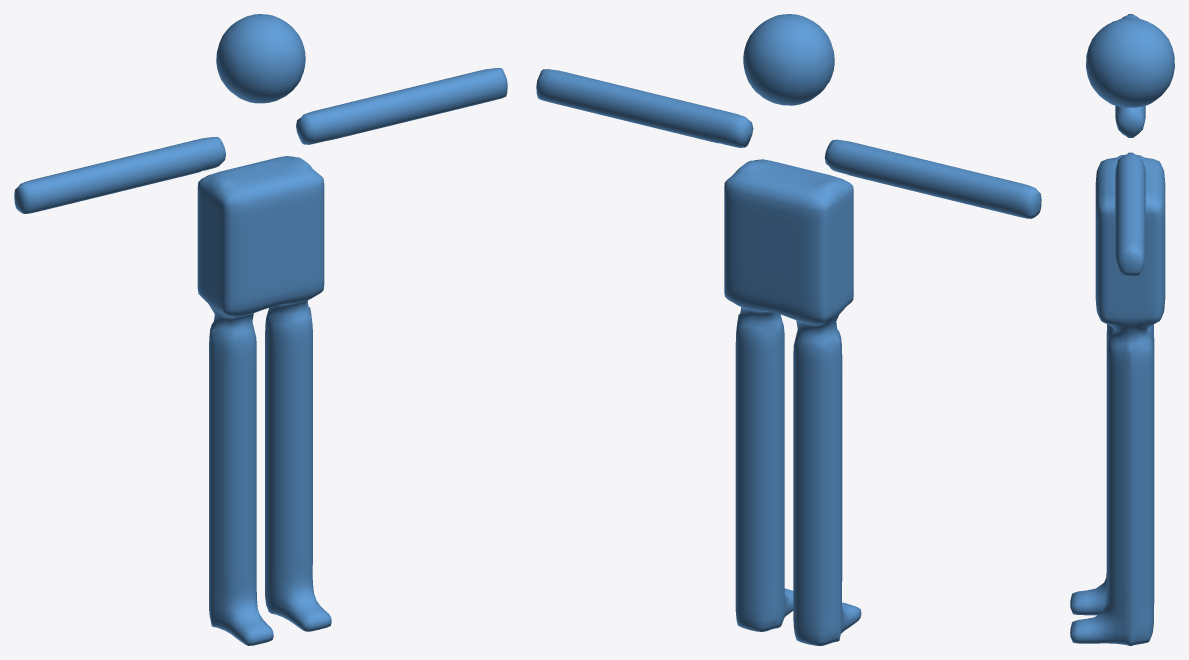
The model's file is kid_mesh.glb.
3 views of the same model, side by side, from view 1: azimuth 30°, elevation 25°; view 2: azimuth 150°, elevation 25°; view 3: azimuth 270°, elevation 25° (orthographic). The views are drawn at different scales.
Visible parts, largest first — view 1: demo_humanoid; view 2: demo_humanoid; view 3: demo_humanoid.
Part boxes in pixels (x1,y1,x2,y2): demo_humanoid: [14, 14, 507, 645]; demo_humanoid: [536, 14, 1041, 645]; demo_humanoid: [1070, 14, 1174, 645].
Size of the model in its own units: 0.9711 by 1.14 by 0.1802.
